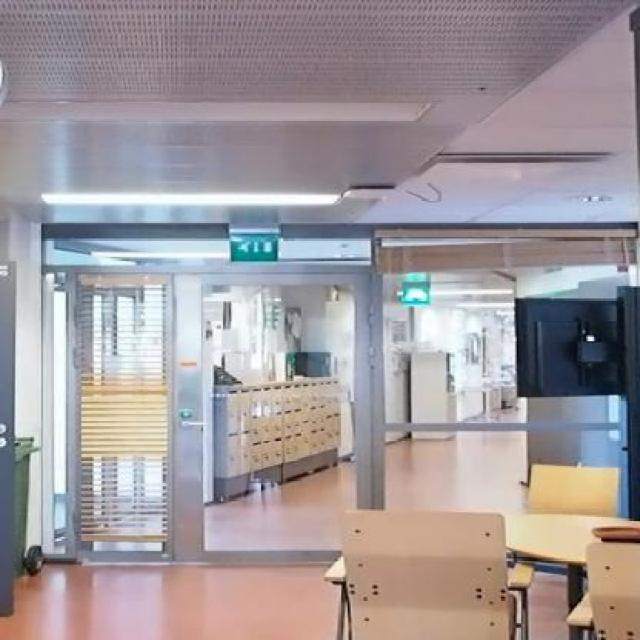person: (222, 218, 294, 268), (391, 268, 450, 316)
